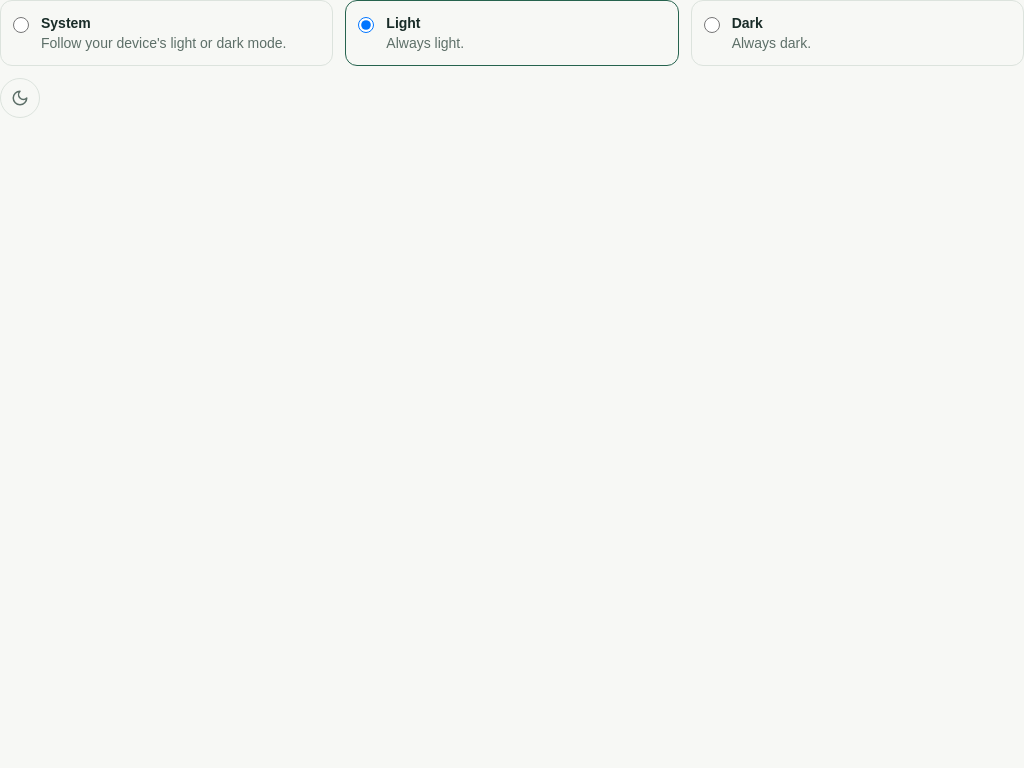
Test case: <ThemeForm> follows other controls › updates its selection when the header toggle changes the theme
Click the button named "Toggle" at (20, 98), box [0, 78, 40, 118]
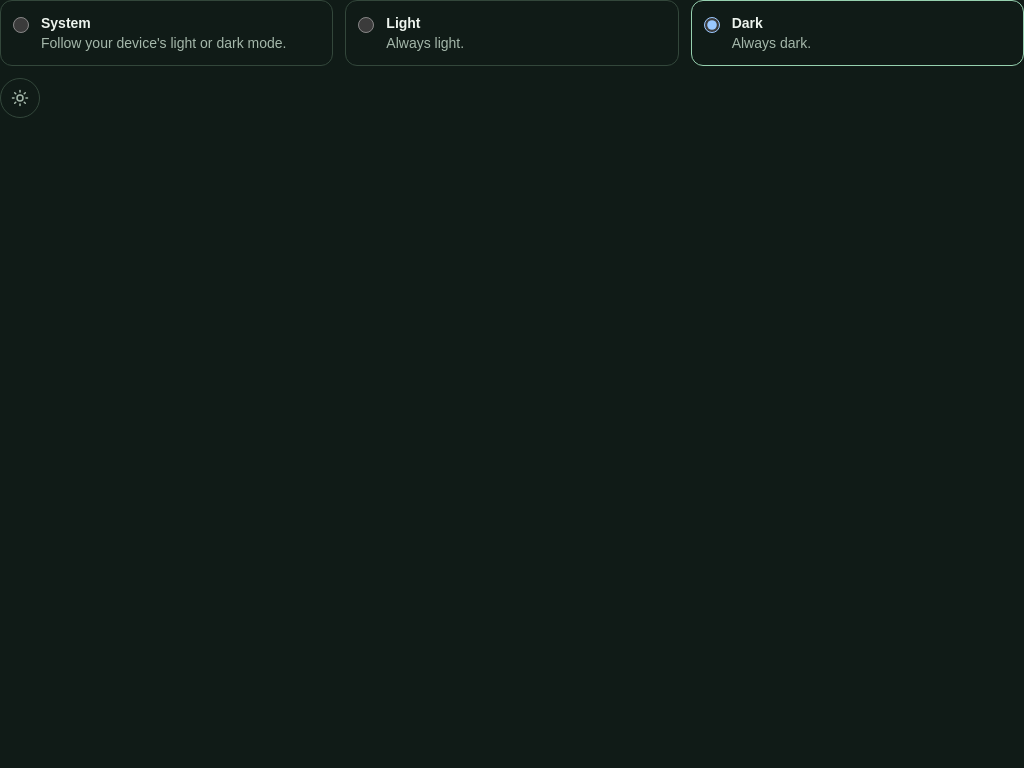
Result: the radio button labelled "Dark Always dark." is checked at [704, 17, 720, 33]
